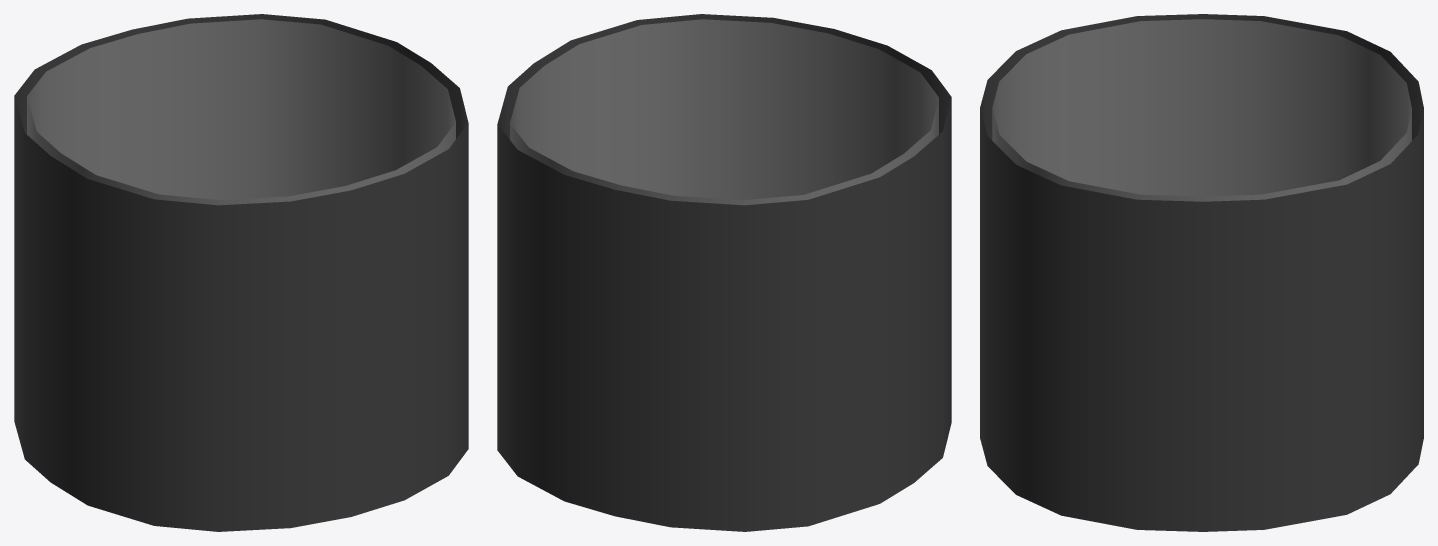
File: Japan_Road_Tunnel.FBX
3 views of the same model, side by side, from view 1: azimuth 30°, elevation 25°; view 2: azimuth 150°, elevation 25°; view 3: azimuth 270°, elevation 25° (orthographic).
Visible parts, largest first — view 1: Object036; view 2: Object036; view 3: Object036.
Boxes of the visible parts, x1=… form: Object036: x1=14, y1=14, x2=468, y2=531; Object036: x1=497, y1=14, x2=951, y2=531; Object036: x1=980, y1=14, x2=1423, y2=531.
Size of the model in its own units: 536 by 439 by 535.
